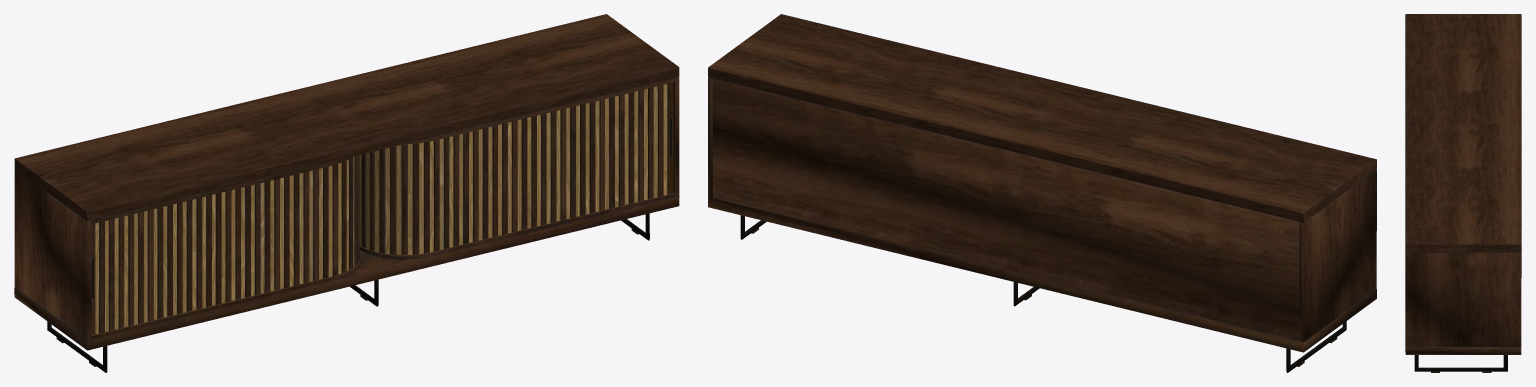
File: modern_wooden_cabinet.glb
The picture shows the model from 3 angles, left to right: view 1: azimuth 30°, elevation 25°; view 2: azimuth 150°, elevation 25°; view 3: azimuth 270°, elevation 25°; orthographic projection. The views are drawn at different scales.
Visible parts, largest first — view 1: modern_wooden_cabinet_body, modern_wooden_cabinet_door_l; view 2: modern_wooden_cabinet_body; view 3: modern_wooden_cabinet_body.
Boxes of the visible parts, x1=… form: modern_wooden_cabinet_body: x1=14, y1=14, x2=679, y2=372; modern_wooden_cabinet_door_l: x1=91, y1=82, x2=673, y2=334; modern_wooden_cabinet_body: x1=708, y1=14, x2=1376, y2=372; modern_wooden_cabinet_body: x1=1405, y1=14, x2=1521, y2=372.
Bounding box in the file's own units: 2.44 × 0.6801 × 0.5201.
Materials: 1 (1 with a texture image).
